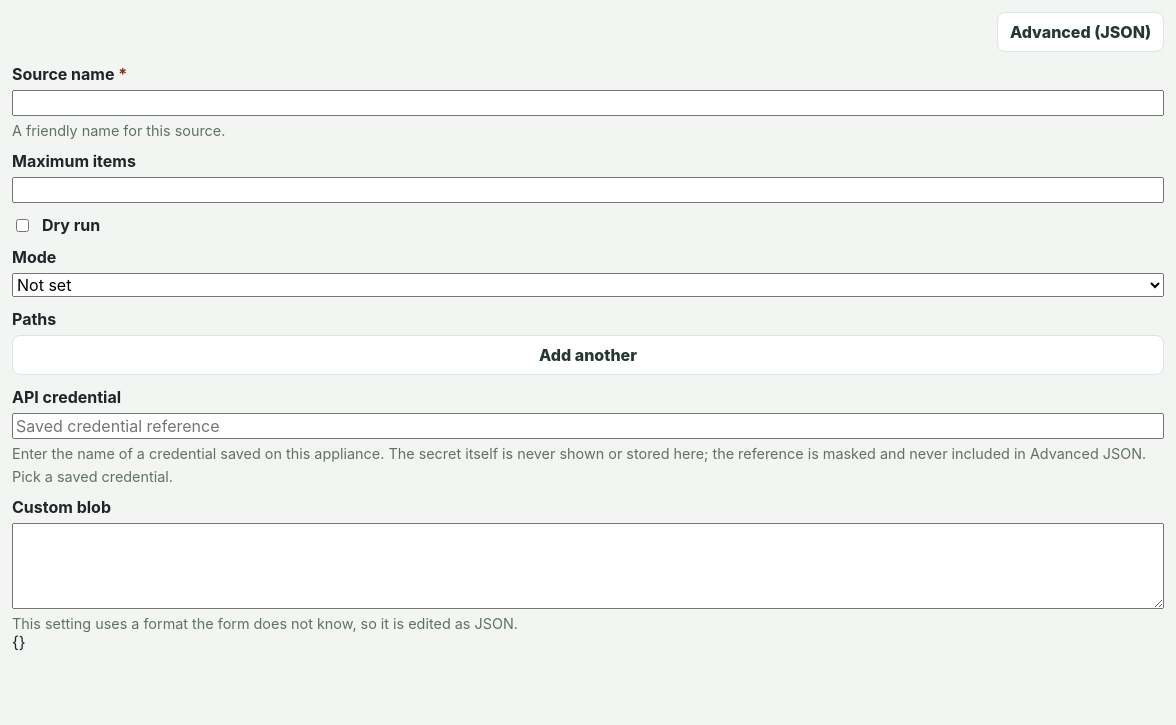
Test: SchemaForm › supports repeatable inputs for array fields
The width and height of the screenshot is (1176, 725).
Click the button "Add another": (588, 355) top-left (12, 335), bottom-right (1164, 375)
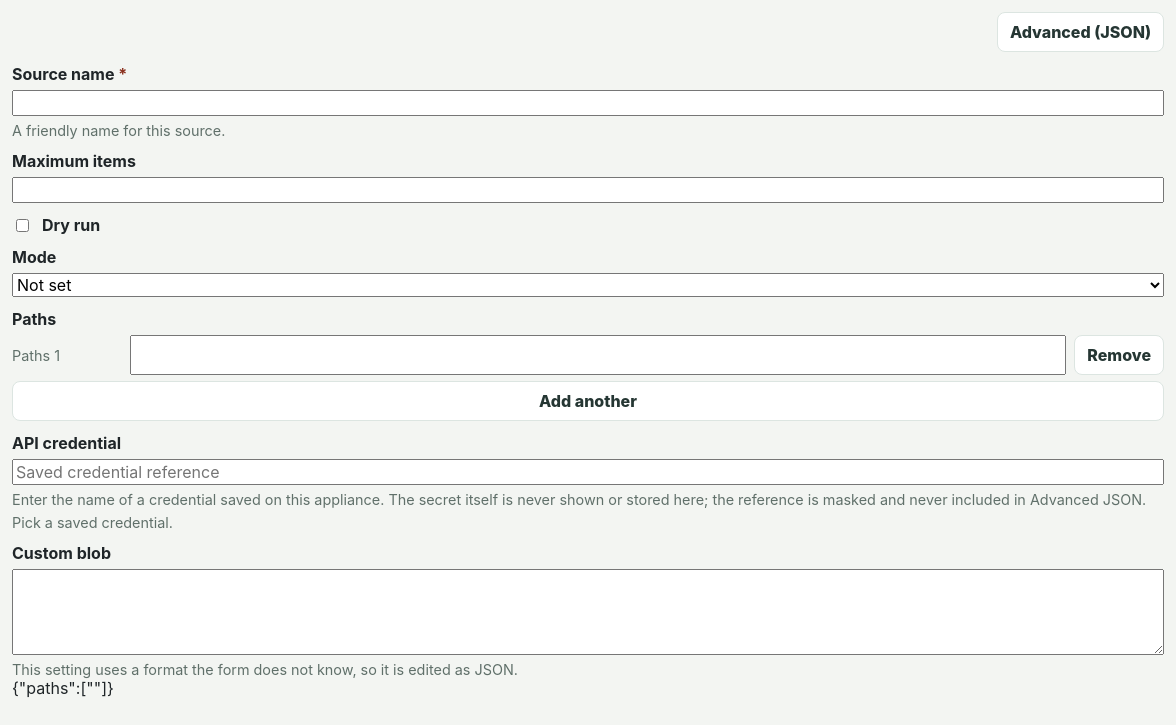
Click the button "Add another": (588, 401) top-left (12, 381), bottom-right (1164, 421)
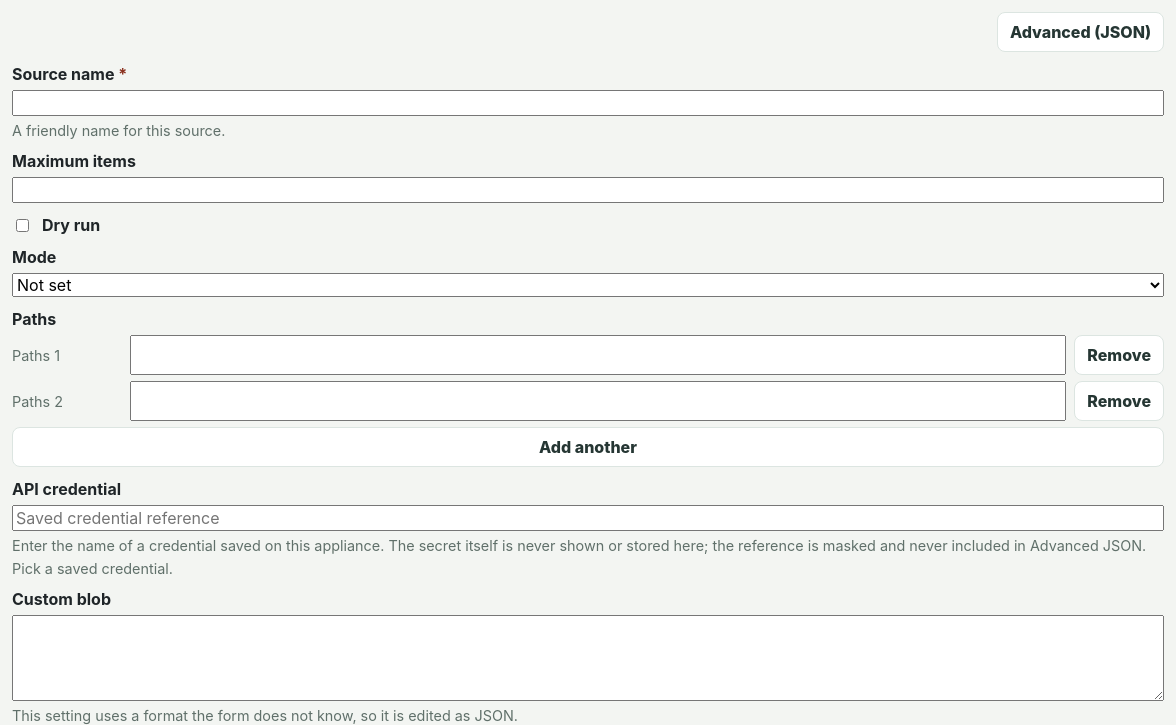
In the field labelled "Paths 1": (598, 355) top-left (130, 335), bottom-right (1066, 375), type "/var"
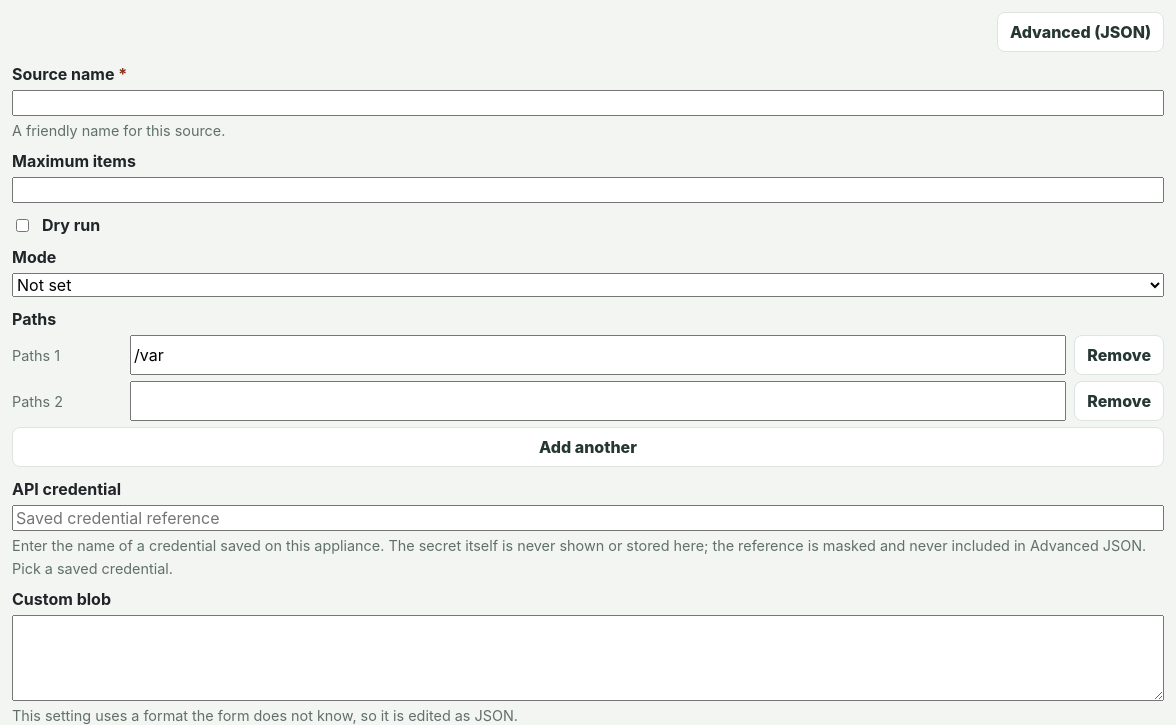
In the field labelled "Paths 2": (598, 401) top-left (130, 381), bottom-right (1066, 421), type "/etc"
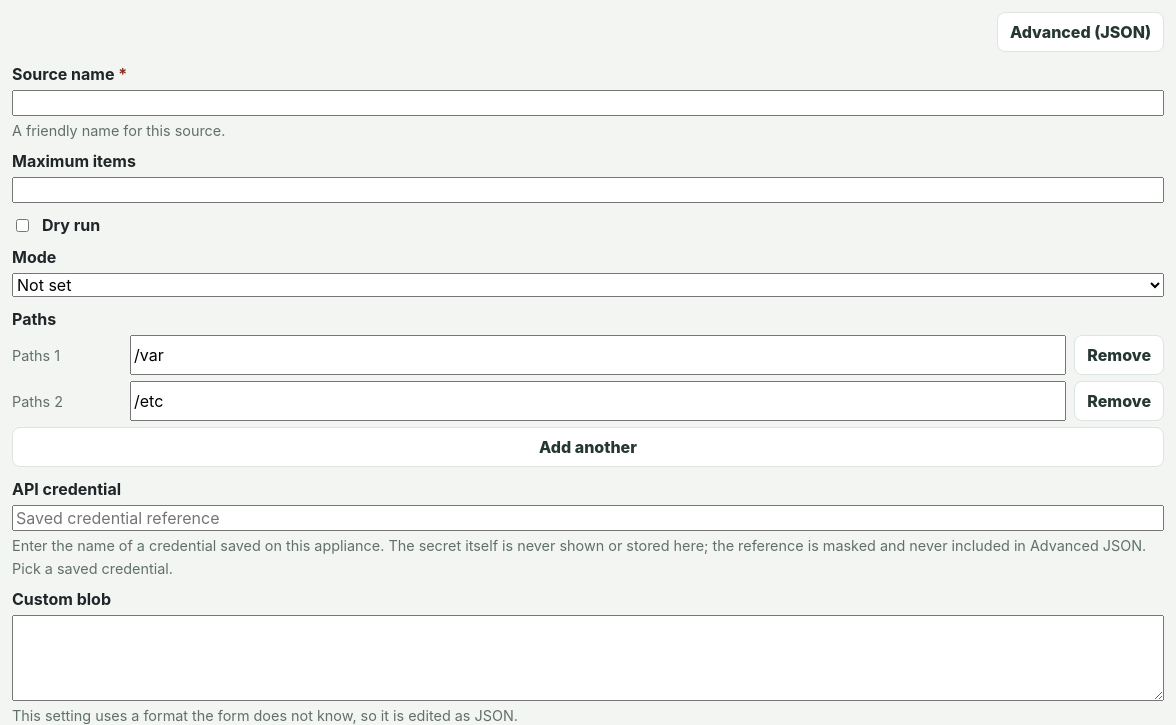
Click the button with aria-label "Remove Paths 1": (1119, 355) top-left (1074, 335), bottom-right (1164, 375)
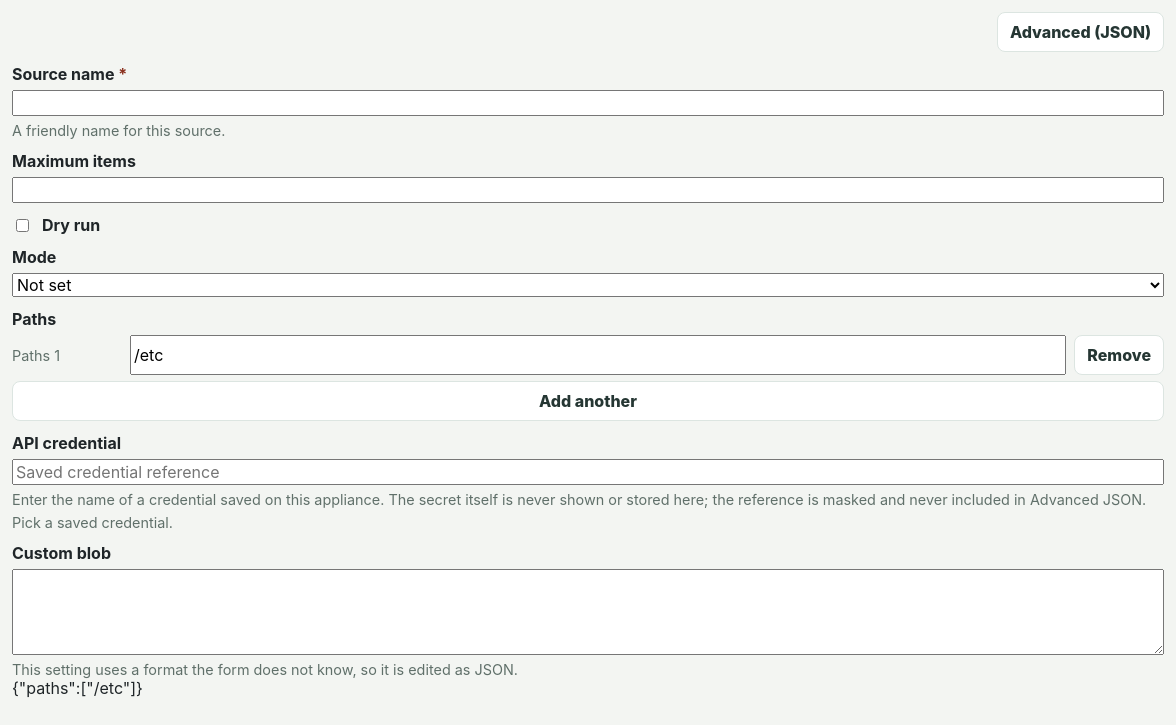
expect the text with test id "value" shows "\"paths\":[\"/etc\"]": met, box top-left (12, 678), bottom-right (143, 698)
